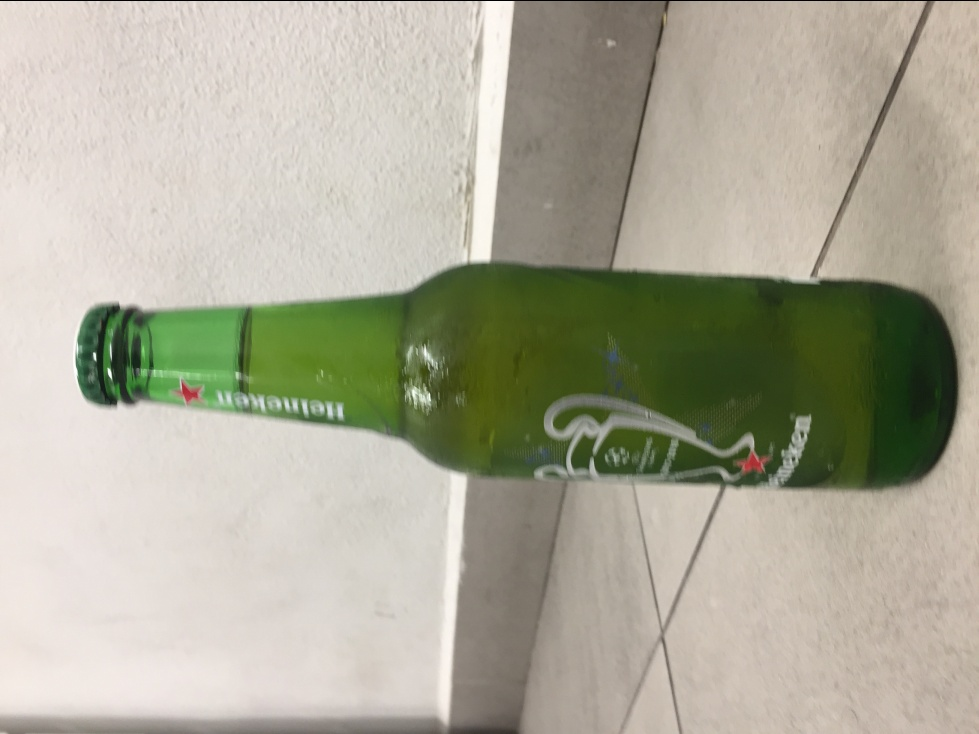heineken: (74, 261, 962, 492)
